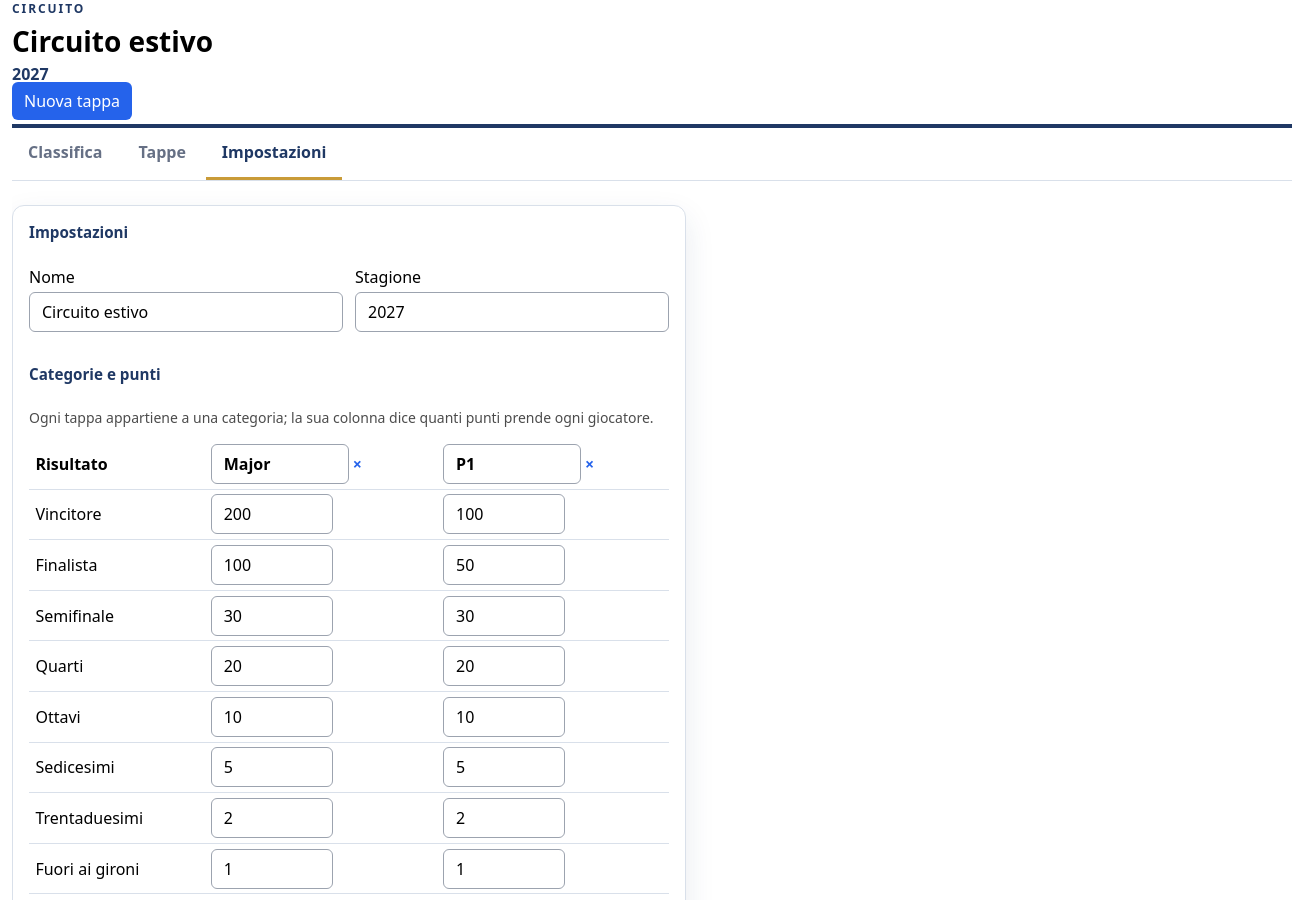
Test case: CircuitPage › explains why a change is refused
The image size is (1292, 900).
Click the button named "Rimuovi P1": (590, 464) [585,453,594,475]
(page scrolled)
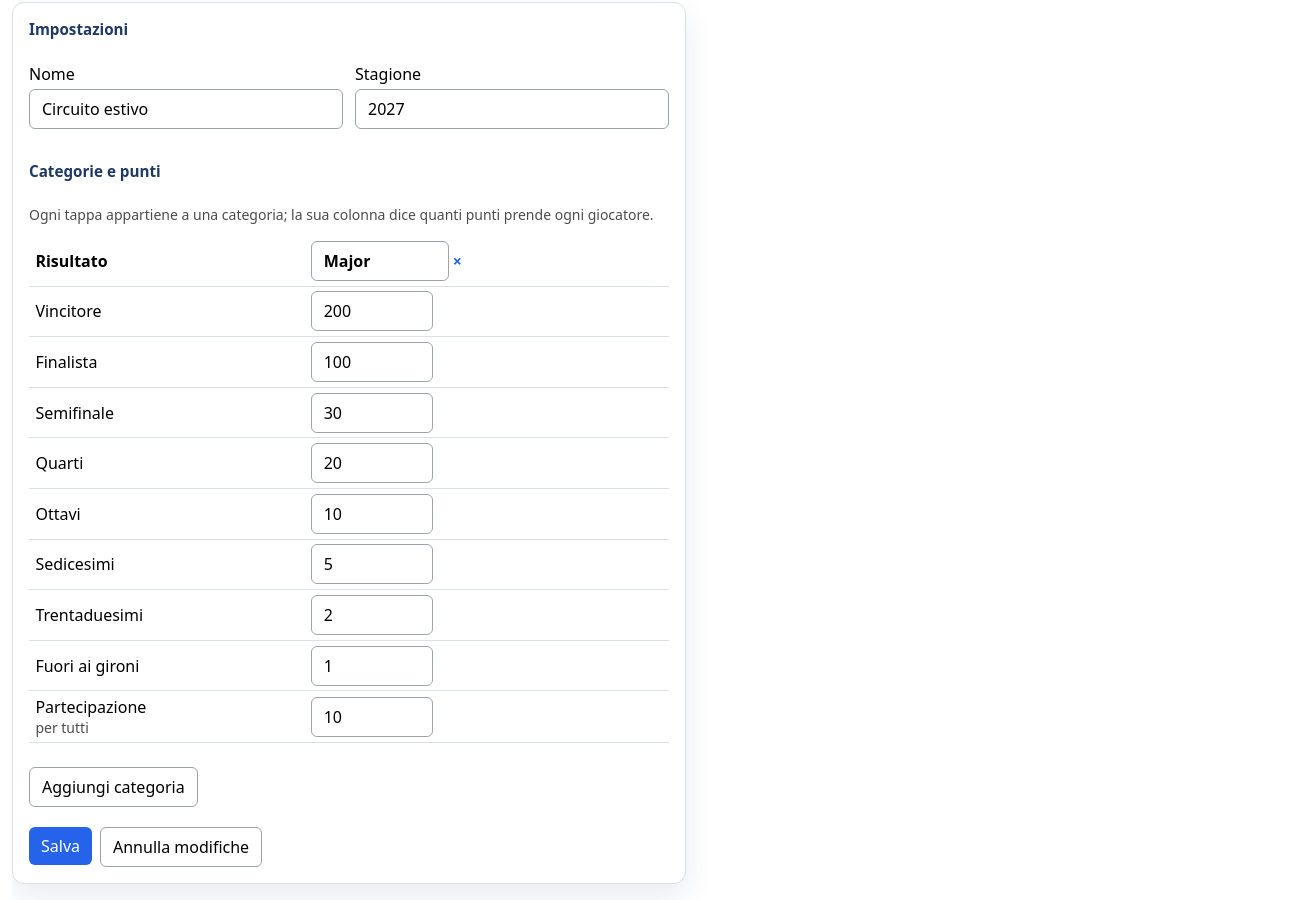
Click the button "Salva": (60, 846) [29,827,92,865]
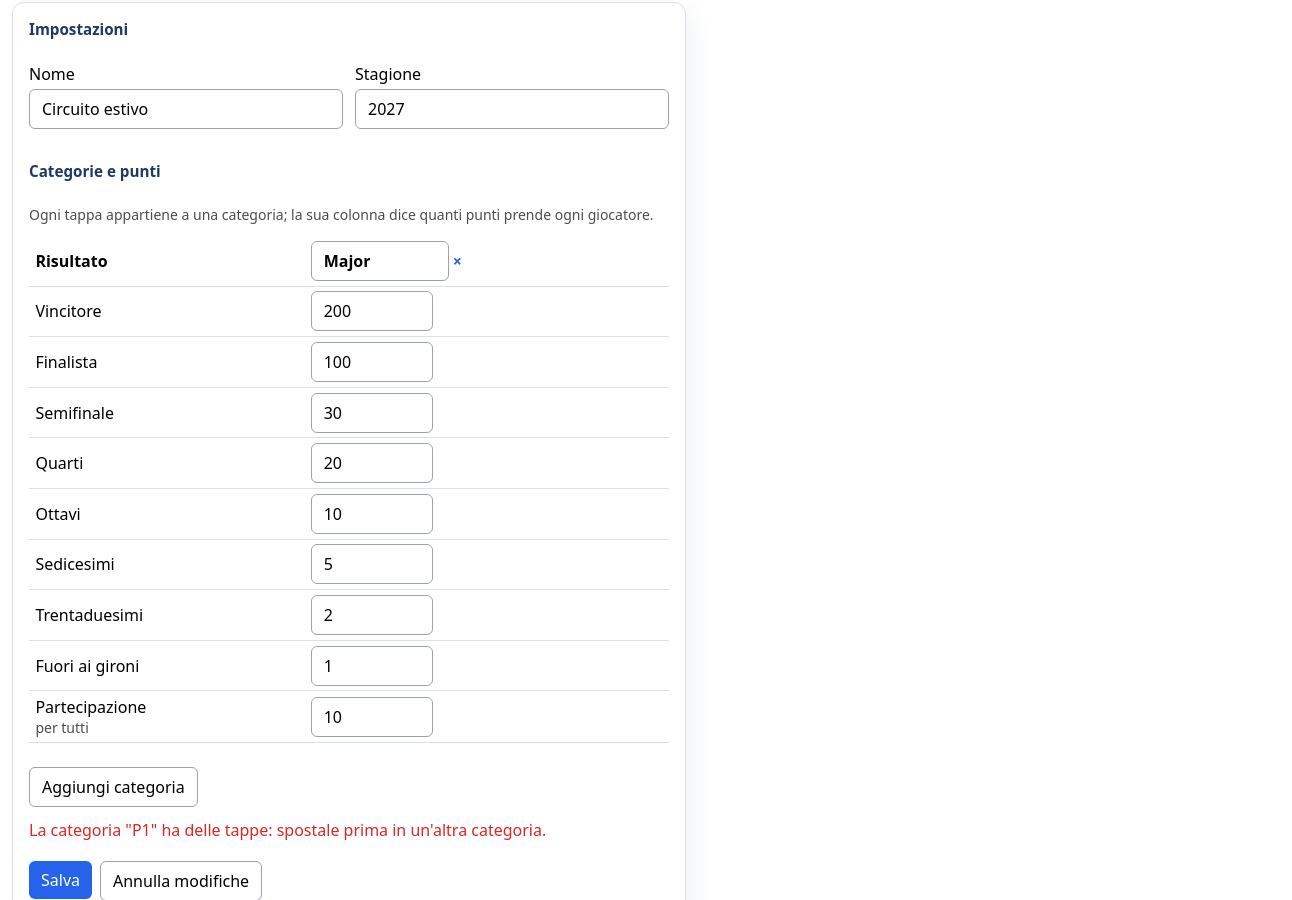
Now the message shows "La categoria \"P1\" ha delle tappe", box [29,819,546,841]
